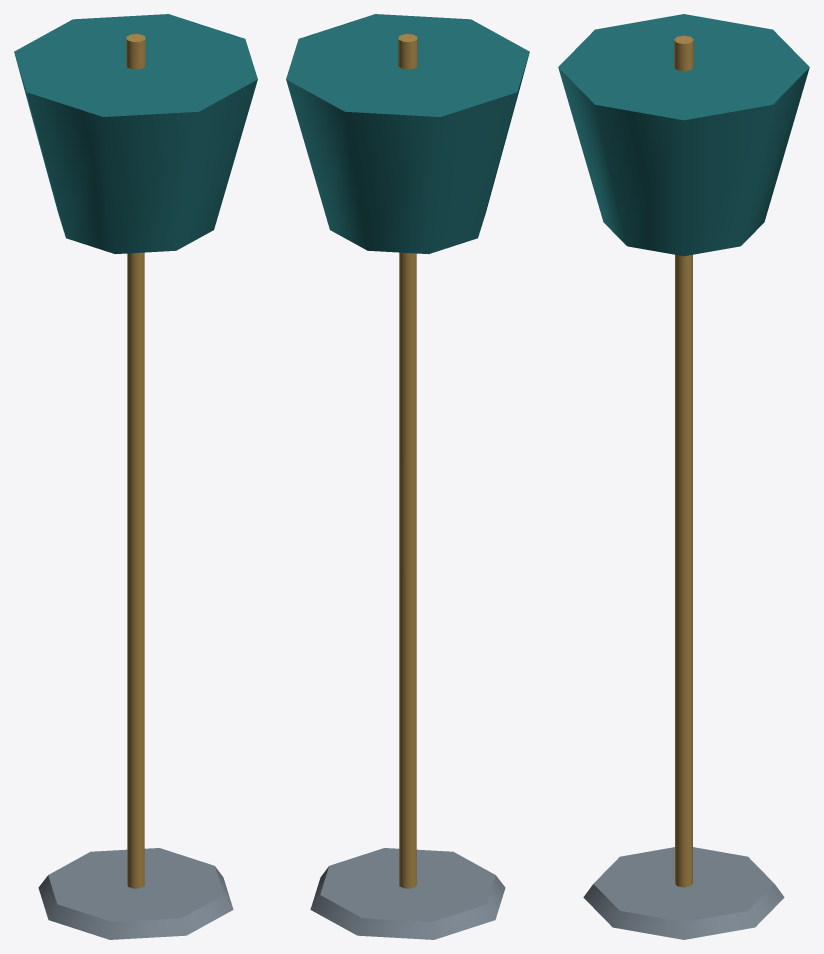
The model's file is floor-lamp-lod1.glb.
3 views of the same model, side by side, from view 1: azimuth 30°, elevation 25°; view 2: azimuth 150°, elevation 25°; view 3: azimuth 270°, elevation 25° (orthographic).
Visible parts, largest first — view 1: shade, base, pole, finial; view 2: shade, base, pole, finial; view 3: shade, base, pole, finial.
Boxes of the visible parts, x1,y1,x2,y2 form: shade: (14,14,257,254); base: (38,848,233,939); pole: (127,252,144,888); finial: (126,34,145,69); shade: (286,14,529,254); base: (310,848,505,939); pole: (399,252,416,888); finial: (398,34,417,69); shade: (558,14,809,256); base: (583,847,784,939); pole: (675,255,692,887); finial: (674,35,693,71).
Size of the model in its own units: 0.5 by 1.88 by 0.5.
